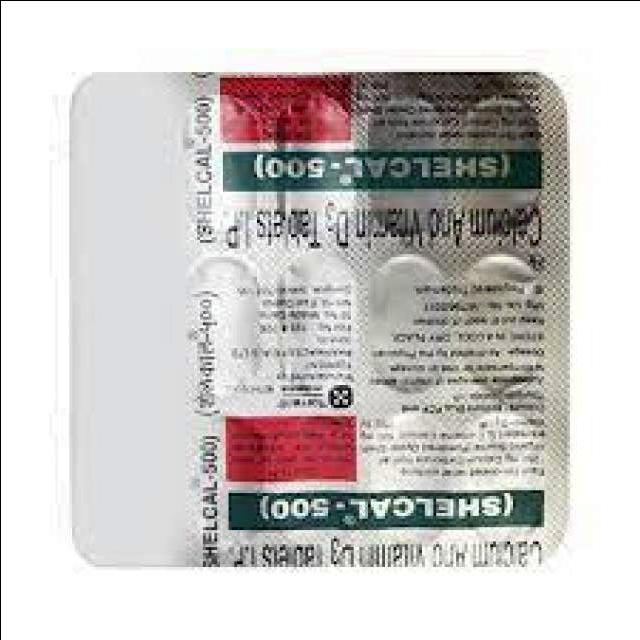authentic: (59, 56, 577, 576)
